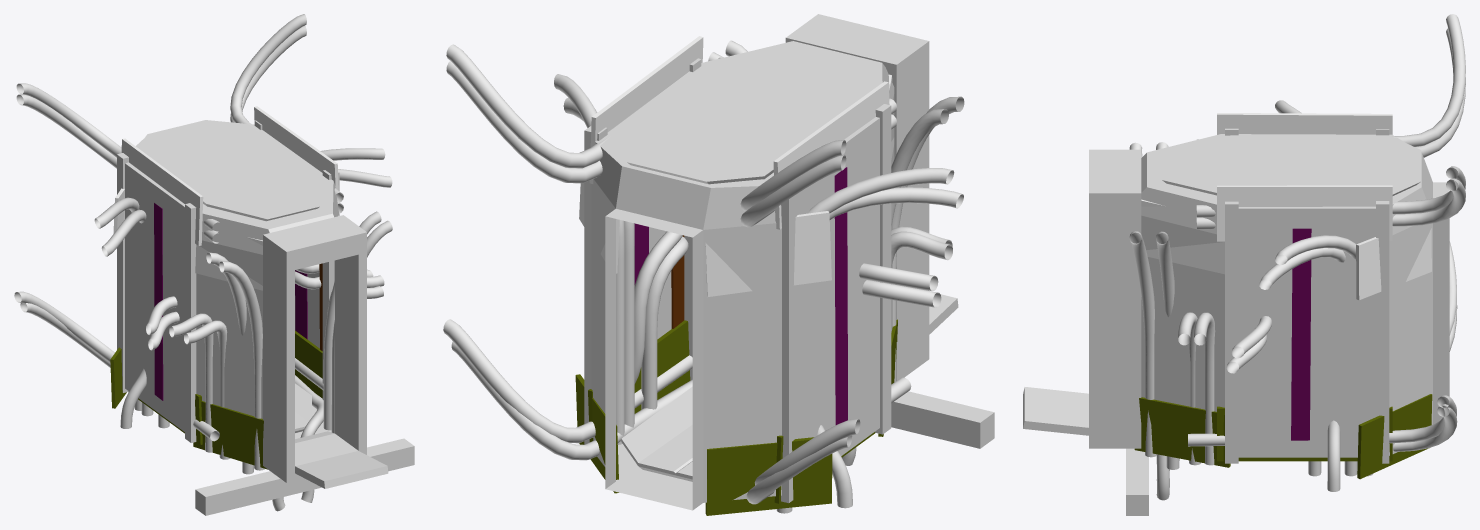
The model's file is Hallway End Combined V6.fbx.
3 views of the same model, side by side, from view 1: azimuth 30°, elevation 25°; view 2: azimuth 150°, elevation 25°; view 3: azimuth 270°, elevation 25° (orthographic). The views are drawn at different scales.
Visible parts, largest first — view 1: 02 Concrete Wall Base, 01 Hallway End Entrance Doorframe.001, 05 Pipes L, 03 Celing Metal Panel, 05 Pipes R, 06 Metal Panel L, 07 Pillars, 06 Metal Panel R, 04 Floor Metal Panel; view 2: 02 Concrete Wall Base, 03 Celing Metal Panel, 05 Pipes R, 05 Pipes L, 06 Metal Panel L, 01 Hallway End Entrance Doorframe.001, 07 Pillars, 06 Metal Panel R, 04 Floor Metal Panel; view 3: 02 Concrete Wall Base, 06 Metal Panel R, 01 Hallway End Entrance Doorframe.001, 05 Pipes R, 03 Celing Metal Panel, 07 Pillars, 05 Pipes L, 06 Metal Panel L.
Part boxes in pixels (bbox=[...]): 02 Concrete Wall Base: bbox=[125, 124, 414, 515]; 01 Hallway End Entrance Doorframe.001: bbox=[263, 215, 388, 488]; 05 Pipes L: bbox=[14, 83, 285, 511]; 03 Celing Metal Panel: bbox=[137, 120, 320, 221]; 05 Pipes R: bbox=[230, 14, 392, 502]; 06 Metal Panel L: bbox=[110, 138, 267, 469]; 07 Pillars: bbox=[117, 120, 339, 442]; 06 Metal Panel R: bbox=[254, 106, 338, 398]; 04 Floor Metal Panel: bbox=[295, 383, 311, 432]; 02 Concrete Wall Base: bbox=[591, 41, 994, 510]; 03 Celing Metal Panel: bbox=[609, 45, 864, 184]; 05 Pipes R: bbox=[443, 40, 747, 460]; 05 Pipes L: bbox=[740, 96, 964, 513]; 06 Metal Panel L: bbox=[705, 74, 897, 515]; 01 Hallway End Entrance Doorframe.001: bbox=[785, 14, 958, 380]; 07 Pillars: bbox=[584, 58, 891, 503]; 06 Metal Panel R: bbox=[575, 36, 703, 493]; 04 Floor Metal Panel: bbox=[621, 386, 692, 481]; 02 Concrete Wall Base: bbox=[1126, 134, 1449, 515]; 06 Metal Panel R: bbox=[1134, 185, 1432, 479]; 01 Hallway End Entrance Doorframe.001: bbox=[1023, 149, 1141, 448]; 05 Pipes R: bbox=[1129, 166, 1465, 500]; 03 Celing Metal Panel: bbox=[1161, 135, 1421, 195]; 07 Pillars: bbox=[1225, 128, 1389, 463]; 05 Pipes L: bbox=[1129, 14, 1465, 480]; 06 Metal Panel L: bbox=[1217, 113, 1392, 134].
Size of the model in its own units: 480 by 556 by 558.
